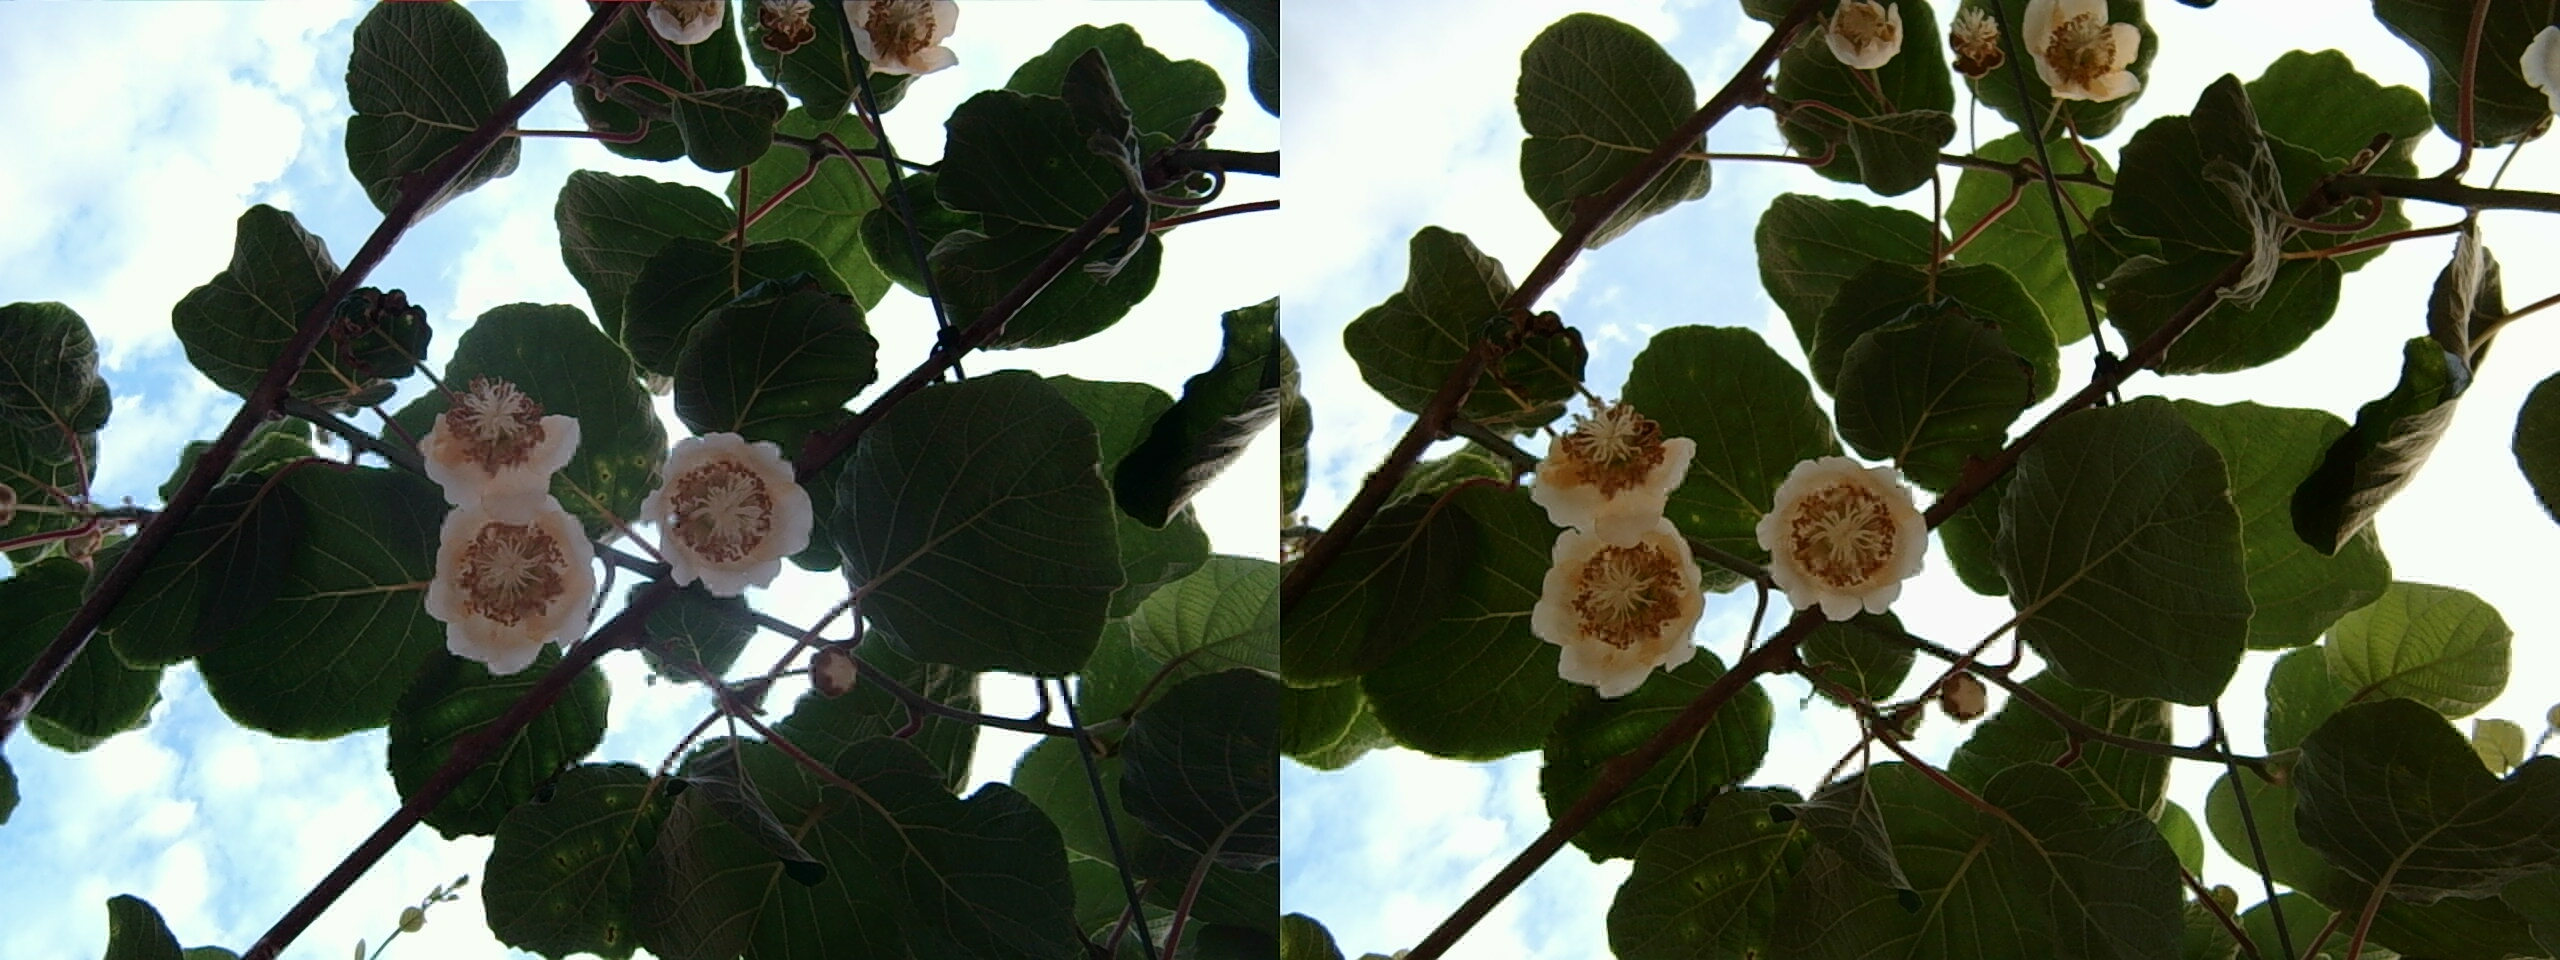flower: (420, 490, 601, 666), (1527, 511, 1706, 686), (1758, 449, 1930, 617), (647, 428, 820, 588), (410, 361, 588, 508), (1518, 389, 1700, 529), (2018, 3, 2152, 113)
